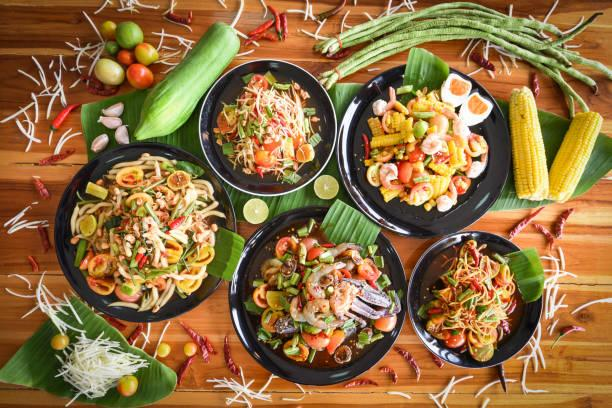Braised Crucian Carp: (53, 143, 232, 322), (230, 205, 404, 385), (338, 62, 509, 239), (406, 231, 542, 371), (198, 58, 334, 197)
